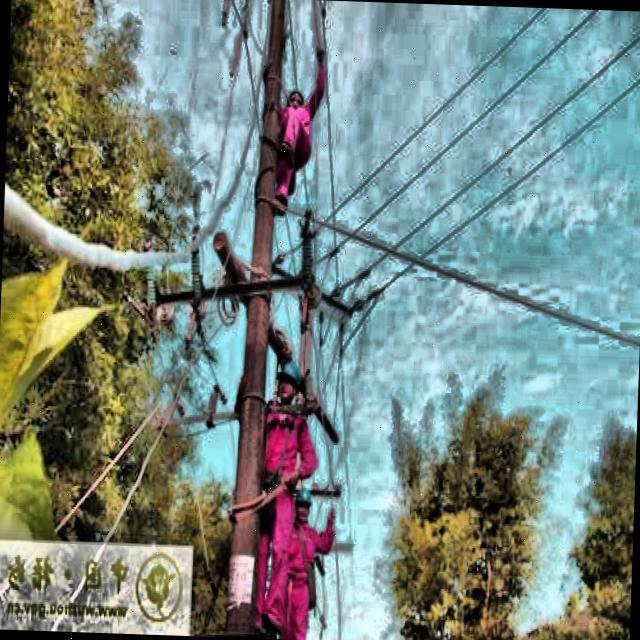helmet: (270, 352, 305, 409), (288, 482, 316, 524)
